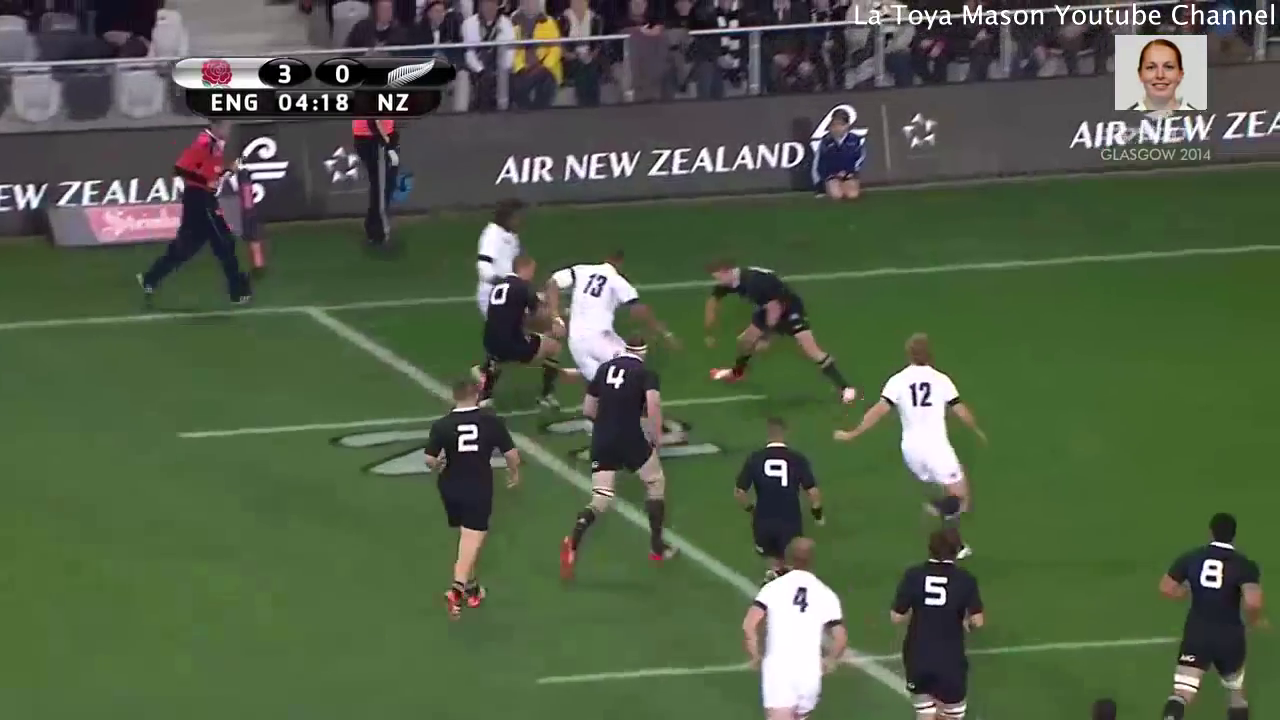corner_flag: (229, 160, 272, 280)
player: (821, 329, 994, 523), (556, 329, 673, 584), (689, 253, 867, 408), (419, 380, 530, 620), (1153, 504, 1271, 720), (737, 525, 857, 720), (541, 244, 693, 385), (885, 524, 992, 720), (471, 244, 573, 414), (474, 189, 534, 324)
